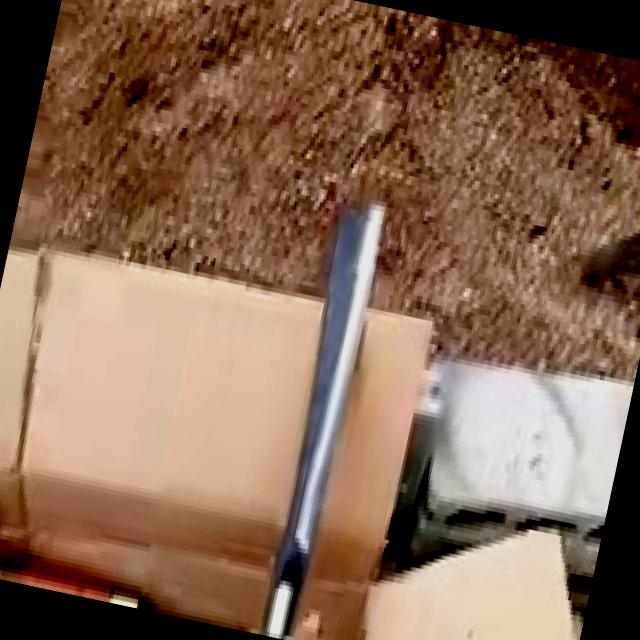eto: (268, 208, 384, 634)
